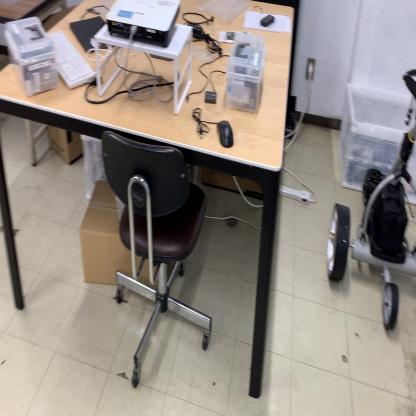chair: (100, 128, 216, 388)
